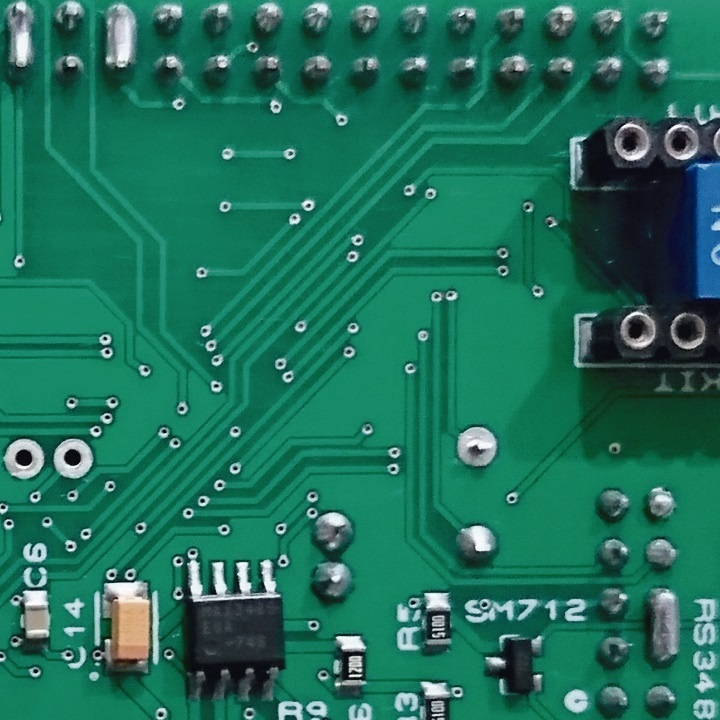F: (453, 421, 504, 474), (1, 435, 48, 484), (50, 436, 98, 480)
P: (96, 3, 141, 89), (642, 583, 684, 669), (1, 1, 41, 85)
